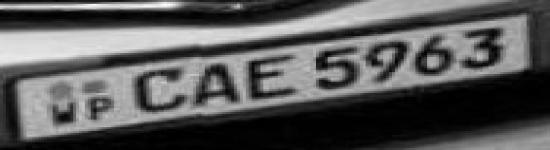3: (460, 26, 512, 72)
5: (308, 42, 367, 94)
6: (412, 33, 458, 80)
9: (366, 38, 414, 85)
A: (193, 62, 246, 108)
C: (132, 64, 192, 117)
E: (246, 51, 308, 102)
P: (84, 95, 121, 123)
W: (48, 98, 82, 128)
